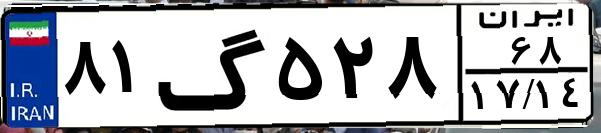1: (110, 28, 156, 98), (470, 70, 495, 125), (535, 70, 560, 125)
2: (330, 28, 385, 110)
4: (560, 70, 590, 125)
5: (270, 28, 330, 110)
6: (508, 27, 537, 80)
7: (495, 70, 520, 125)
8: (385, 28, 445, 110), (57, 26, 110, 100), (537, 27, 568, 80)
گ: (156, 12, 270, 120)
